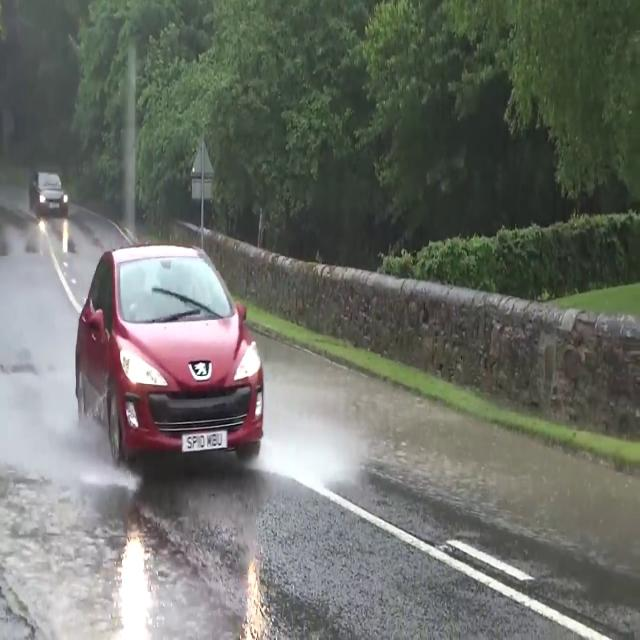license-plate-annotation: (184, 434, 229, 454)
